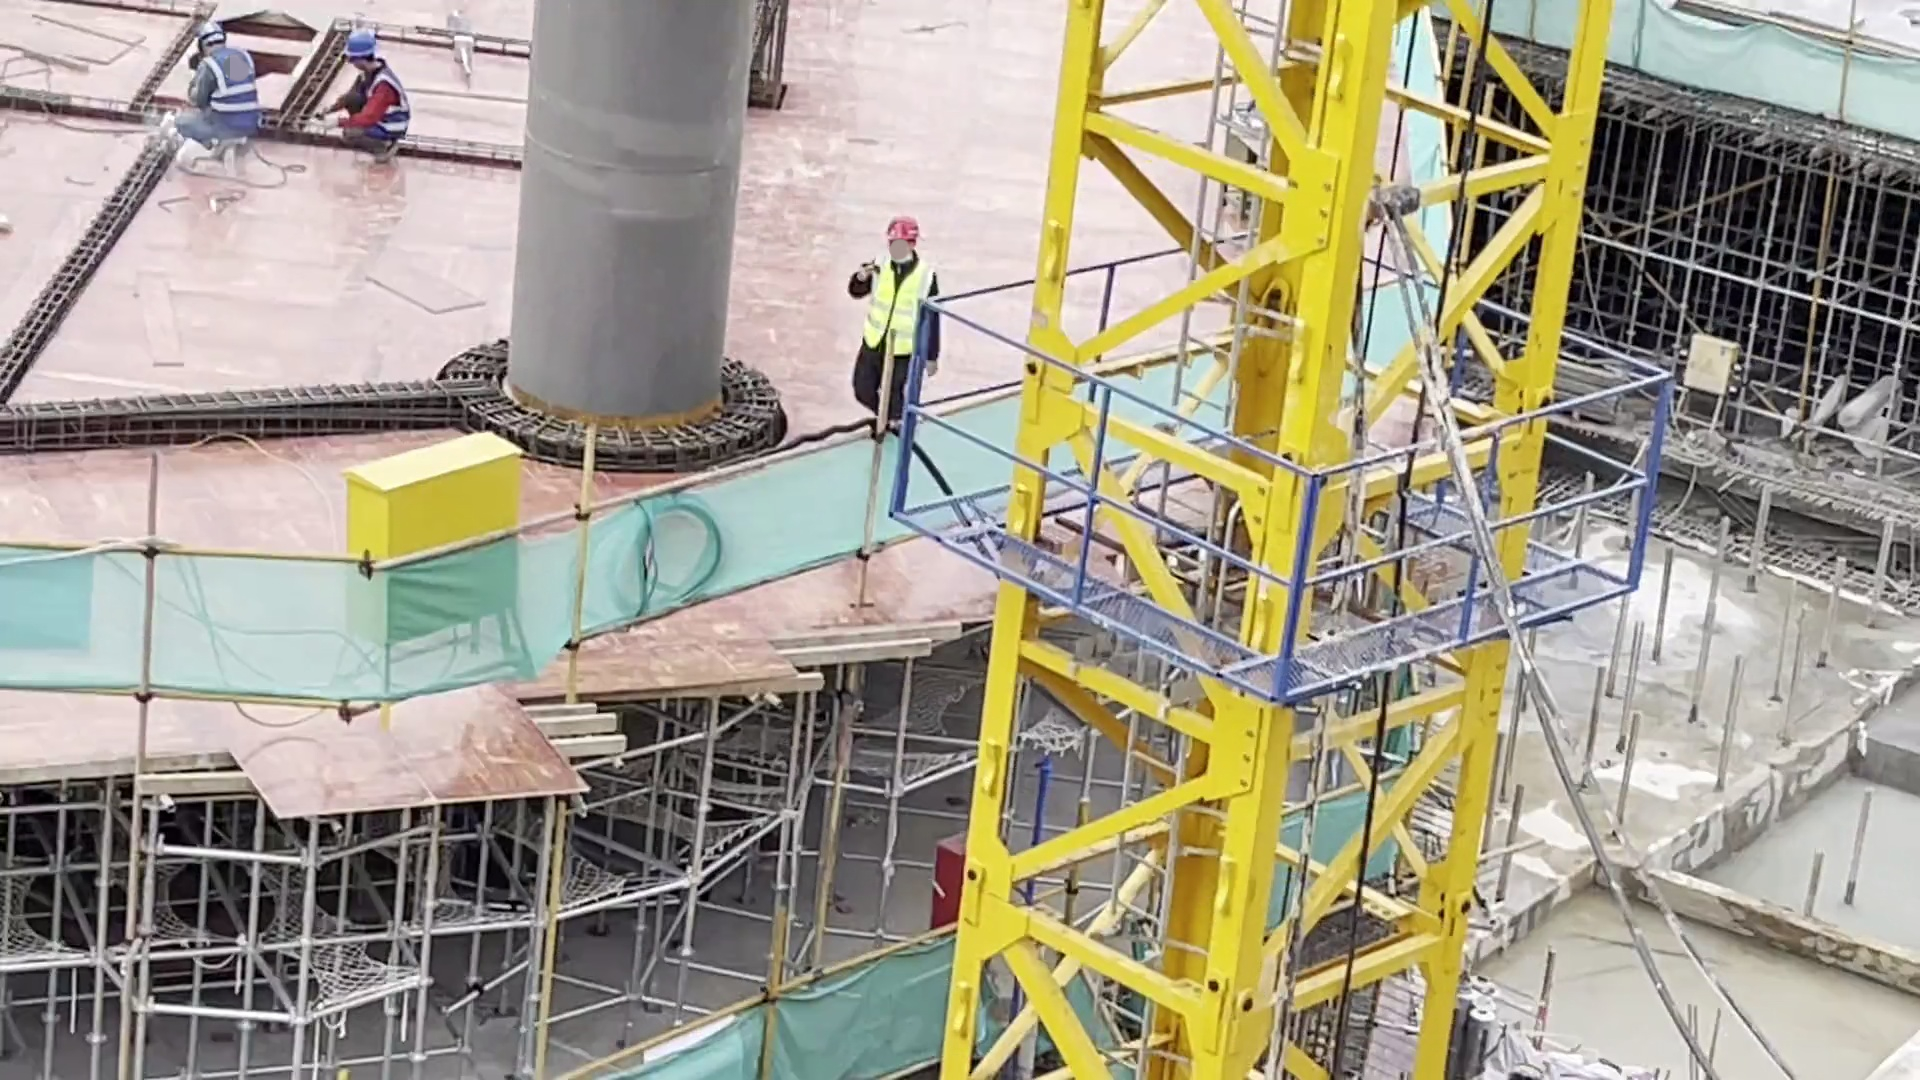ebox: (340, 426, 526, 730), (1674, 331, 1746, 438)
helmet: (193, 18, 225, 47), (344, 30, 378, 58), (887, 217, 922, 240)
person: (844, 216, 940, 412), (171, 17, 264, 172), (317, 25, 415, 168)
vest: (863, 252, 935, 363), (195, 47, 266, 134), (350, 64, 410, 141)
